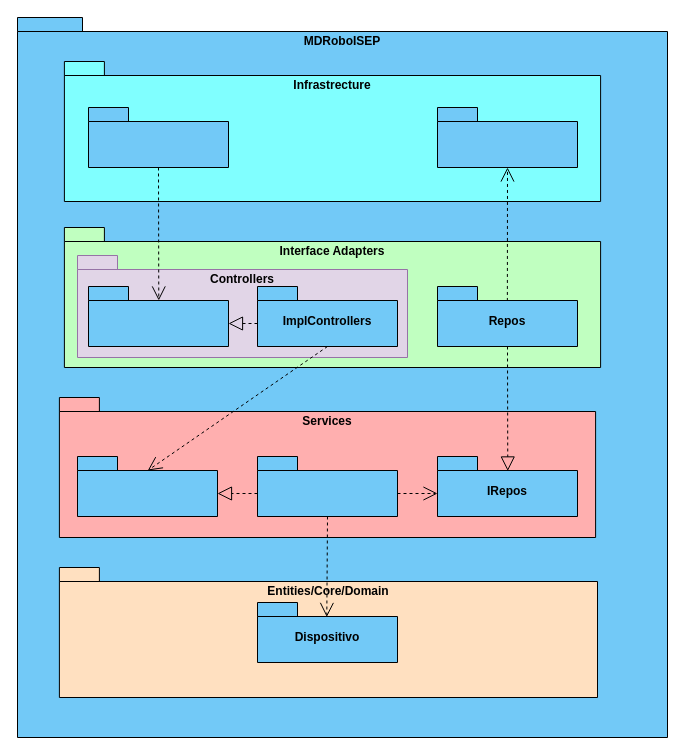
Image size: 685x755. Some labels were removed from this diagram. The shapes that lost their labels are listed below. From the top down, each one's centre as x and y in pixels, then its label:
At pixel 158 137: "Routes".
At pixel 507 137: "Persistence".
At pixel 158 316: "IControllers".
At pixel 147 486: "IServices".
At pixel 327 486: "ImplServices".
